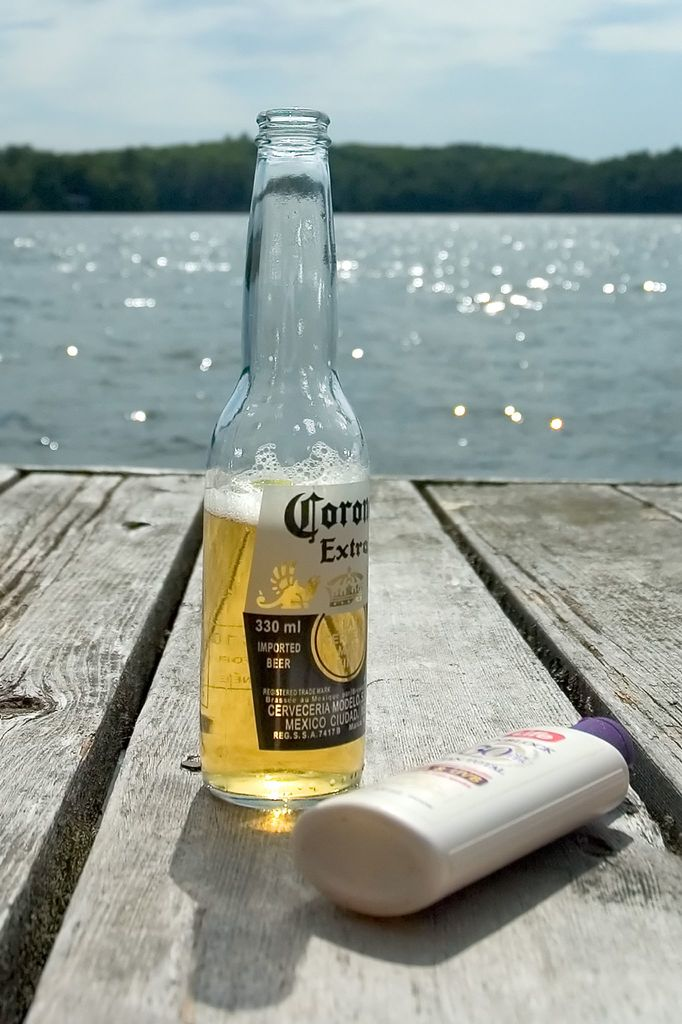Beer: (197, 440, 371, 806)
